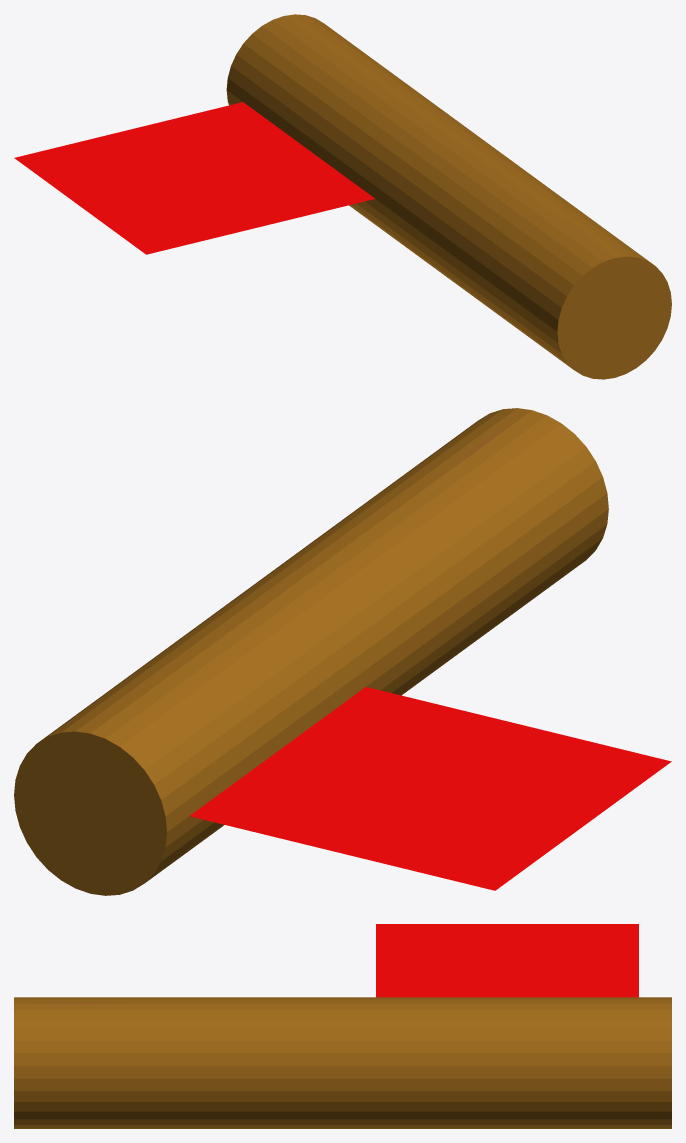
The model's file is test_goal.fbx.
The picture shows the model from 3 angles, top to bottom: view 1: azimuth 30°, elevation 25°; view 2: azimuth 150°, elevation 25°; view 3: azimuth 270°, elevation 25°; orthographic projection. The views are drawn at different scales.
Visible parts, largest first — view 1: 平面; view 2: 平面; view 3: 平面.
Part boxes in pixels (bbox=[...]): 平面: bbox=[14, 14, 671, 379]; 平面: bbox=[14, 408, 671, 895]; 平面: bbox=[14, 924, 671, 1128].
Bounding box in the file's own units: 60 × 20 × 100.
Materials: 2 (2 with a texture image).
